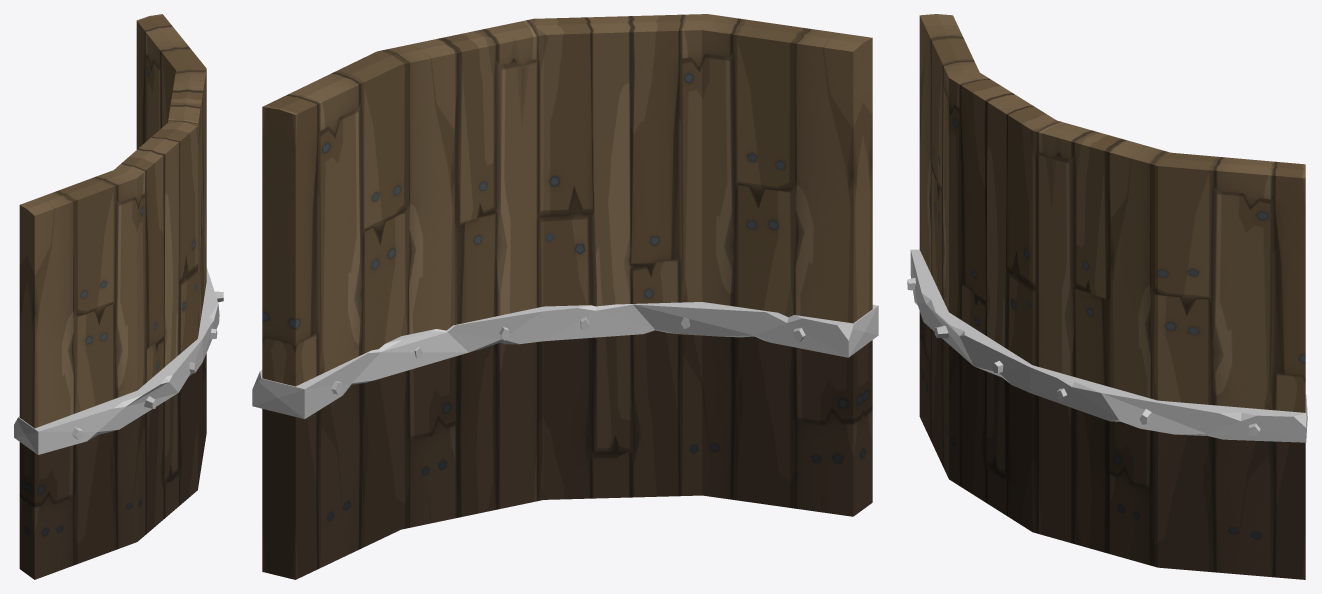
File: SM_Bld_House_Wall_Curved_01.fbx
3 views of the same model, side by side, from view 1: azimuth 30°, elevation 25°; view 2: azimuth 150°, elevation 25°; view 3: azimuth 270°, elevation 25° (orthographic). The views are drawn at different scales.
Visible parts, largest first — view 1: SM_Bld_House_Wall_Curved_01; view 2: SM_Bld_House_Wall_Curved_01; view 3: SM_Bld_House_Wall_Curved_01.
Boxes of the visible parts, x1,y1,x2,y2 form: SM_Bld_House_Wall_Curved_01: (14,14,223,579); SM_Bld_House_Wall_Curved_01: (252,14,878,579); SM_Bld_House_Wall_Curved_01: (907,14,1307,579).
Size of the model in its own units: 271 by 301 by 271.
